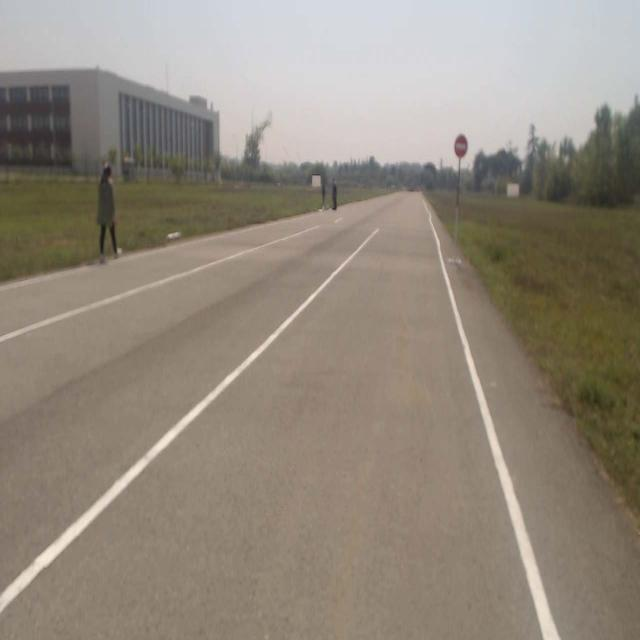girisyok: (454, 134, 469, 158)
